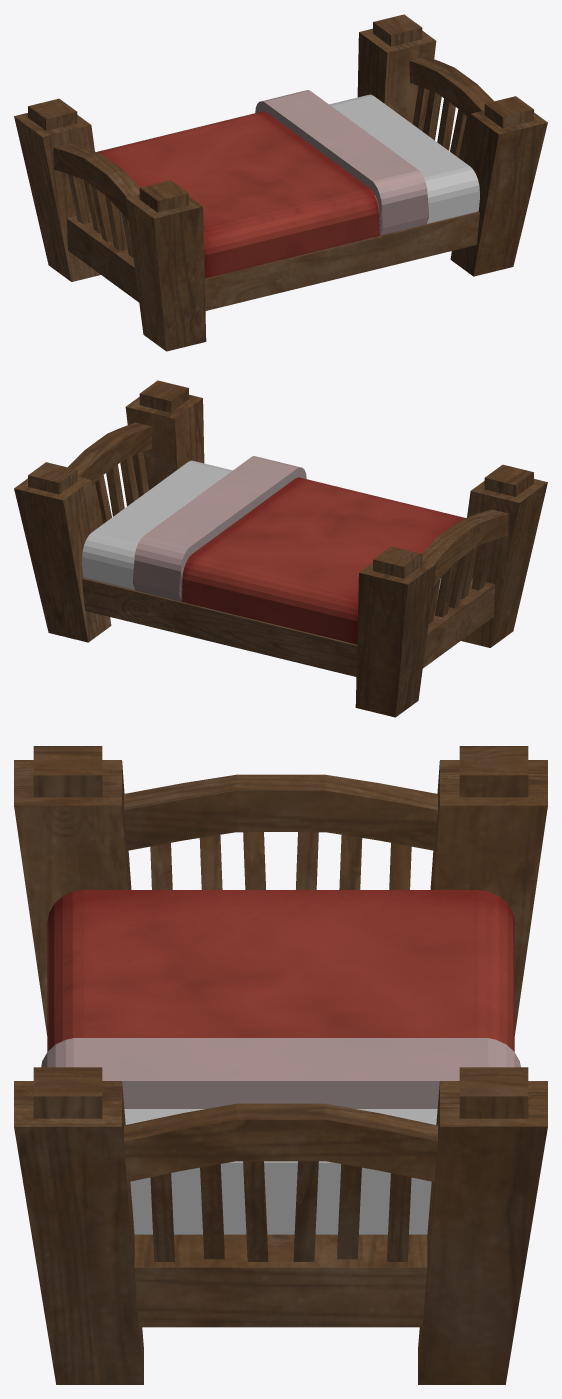
The model's file is bed.fbx.
3 views of the same model, one above another, from view 1: azimuth 30°, elevation 25°; view 2: azimuth 150°, elevation 25°; view 3: azimuth 270°, elevation 25° (orthographic). The views are drawn at different scales.
Visible parts, largest first — view 1: bed; view 2: bed; view 3: bed.
Part boxes in pixels (x1,y1,x2,y2): bed: (14, 14, 547, 351); bed: (14, 380, 547, 717); bed: (14, 746, 547, 1384).
Bounding box in the file's own units: 398 × 153 × 245.
